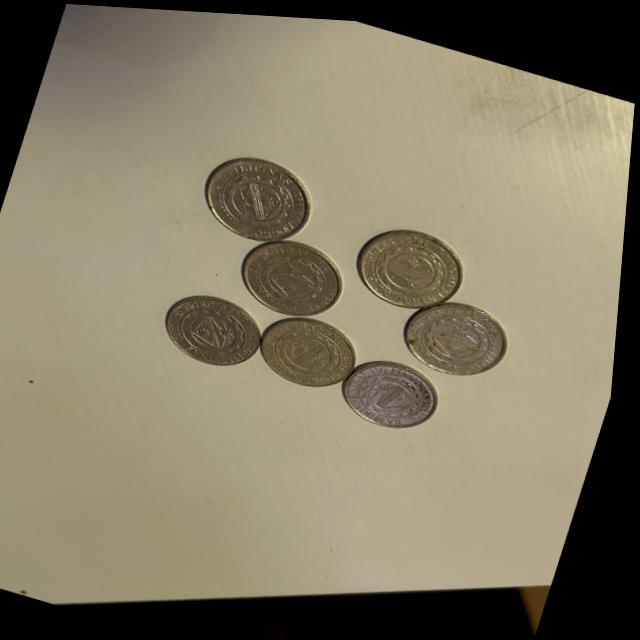1_Old_Back: (212, 159, 311, 235), (368, 225, 460, 301), (250, 236, 340, 313), (415, 295, 506, 369), (174, 291, 266, 363), (272, 312, 356, 384), (356, 357, 440, 426)
